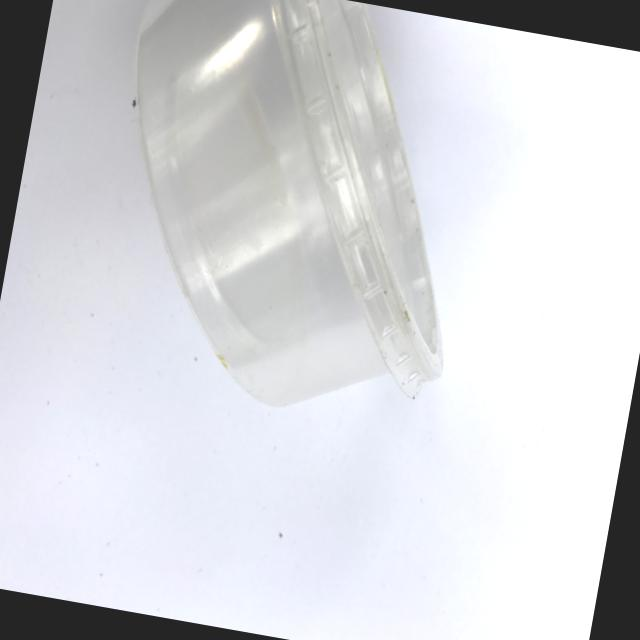Plastic: (49, 0, 507, 505)
